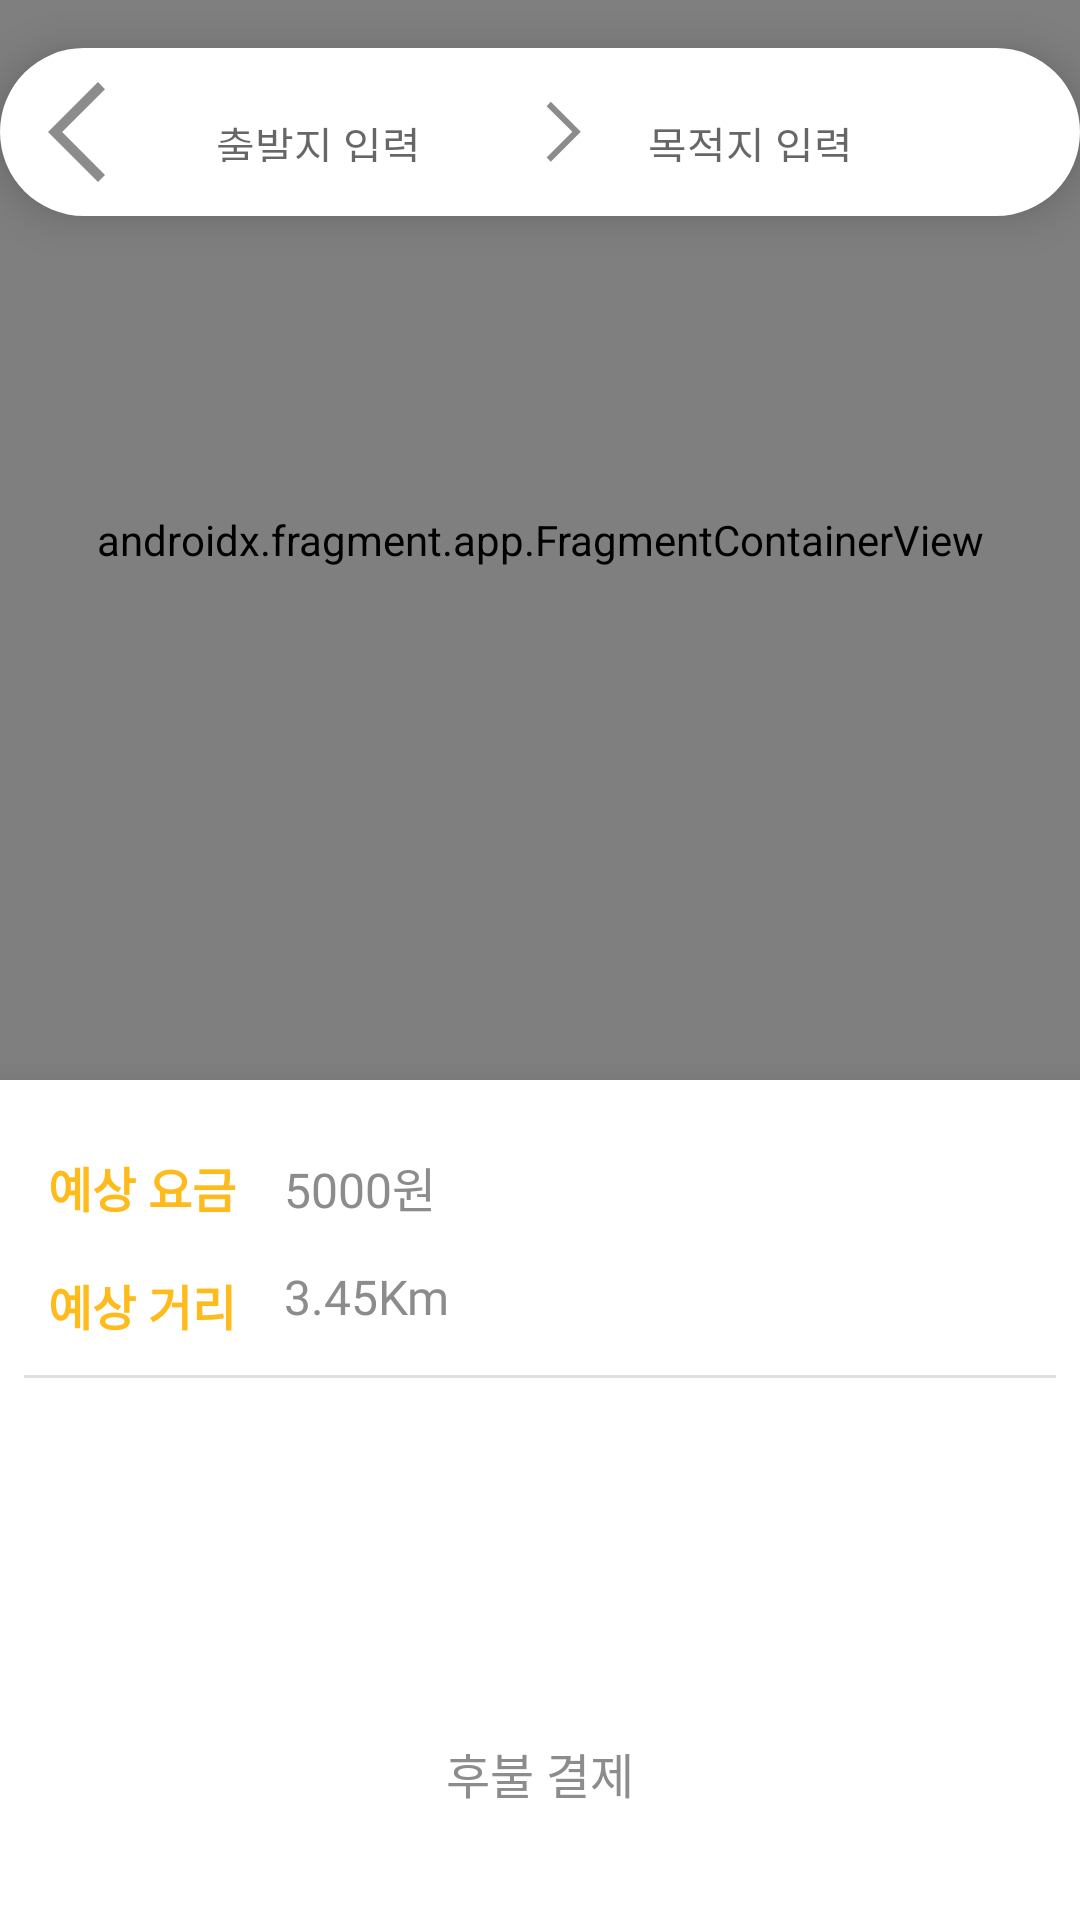

Locate icon controls on the screen. Image size 1080 x 1920, boxes as (x1, y1, x2, y2).
back destination: (48, 82, 105, 182)
forward: (547, 102, 581, 162)
